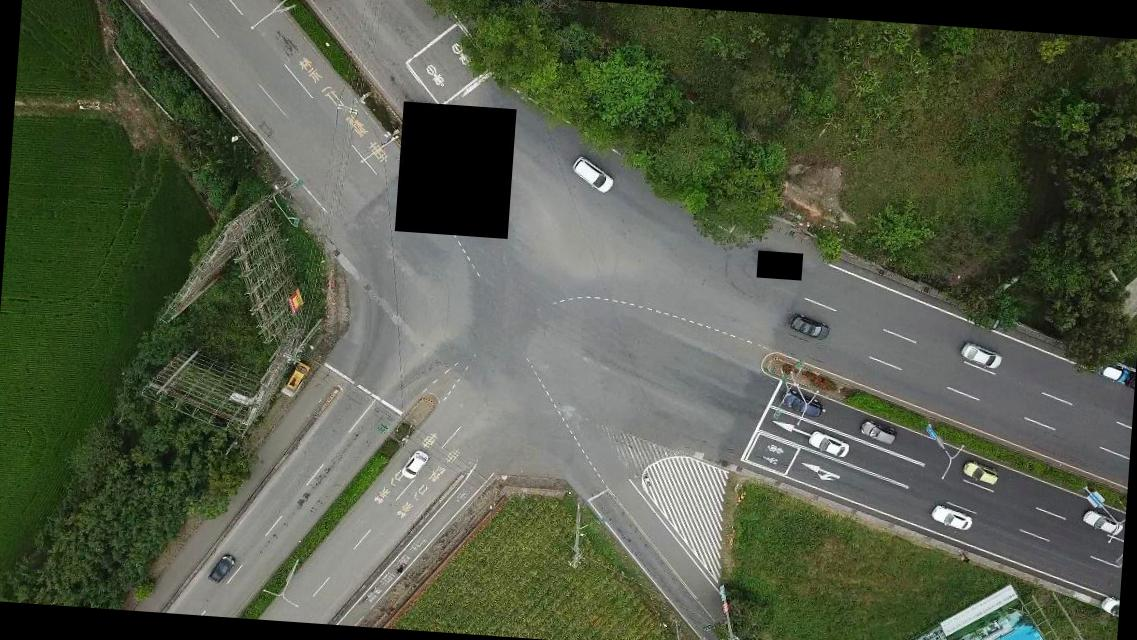vehicle: (568, 154, 616, 197), (807, 429, 850, 460), (929, 502, 973, 532), (968, 305, 1009, 334), (780, 390, 824, 417), (788, 314, 831, 340), (957, 343, 1001, 368), (857, 420, 898, 446), (959, 458, 1000, 484), (1082, 510, 1122, 535), (401, 448, 428, 482), (209, 552, 235, 586), (285, 361, 310, 392), (1092, 362, 1128, 383), (1100, 597, 1118, 620)
